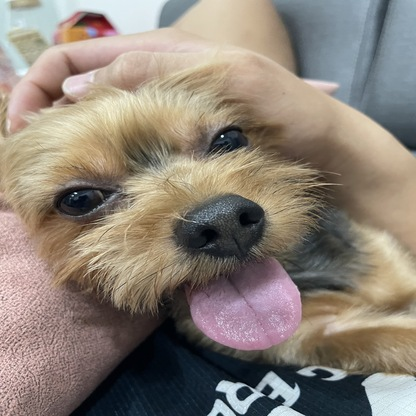yorkshire: (14, 61, 416, 368)
